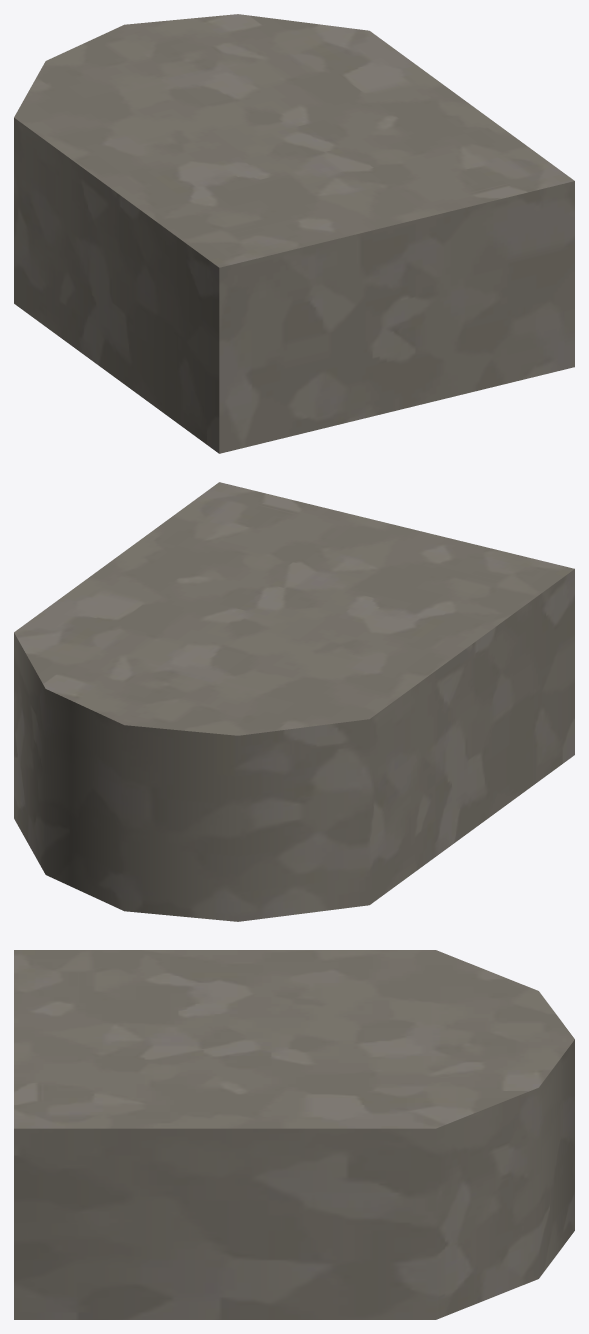
File: Part - Simlpe form 08-DALS5YnT.glb
The picture shows the model from 3 angles, top to bottom: view 1: azimuth 30°, elevation 25°; view 2: azimuth 150°, elevation 25°; view 3: azimuth 270°, elevation 25°; orthographic projection. The views are drawn at different scales.
Visible parts, largest first — view 1: Simlpe_form_08; view 2: Simlpe_form_08; view 3: Simlpe_form_08.
Part boxes in pixels (x1,y1,x2,y2): Simlpe_form_08: [14, 14, 574, 453]; Simlpe_form_08: [14, 482, 574, 921]; Simlpe_form_08: [14, 950, 574, 1319].
Bounding box in the file's own units: 1 × 0.5 × 1.33.
1 material, 1 textured.
